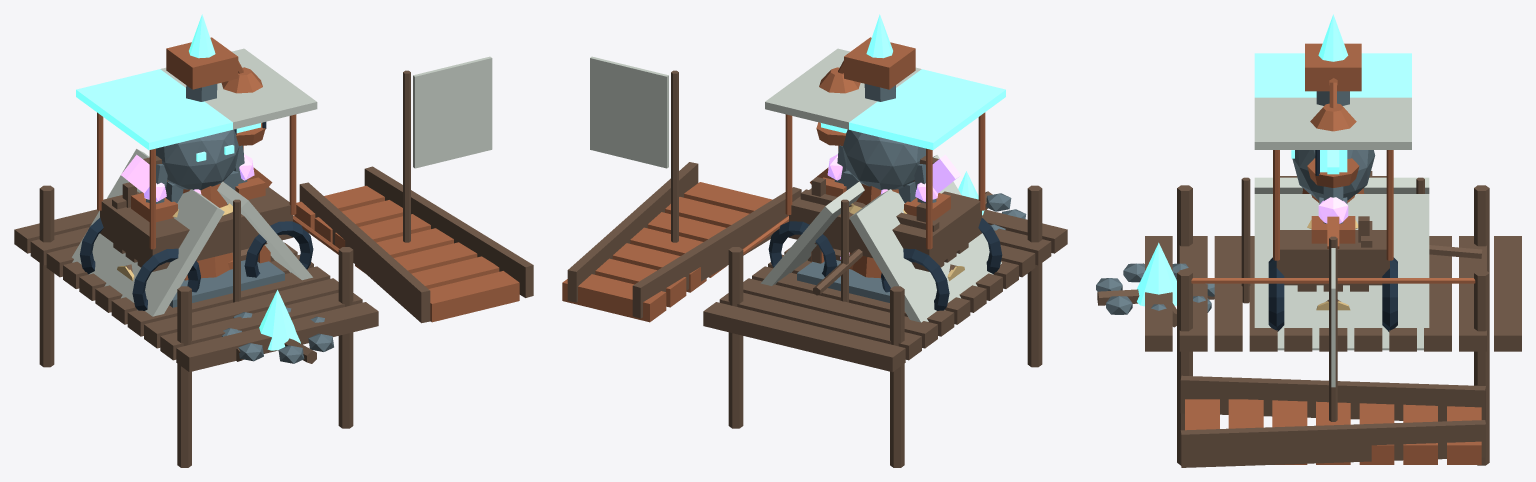
File: detaljer.glb
3 views of the same model, side by side, from view 1: azimuth 30°, elevation 25°; view 2: azimuth 150°, elevation 25°; view 3: azimuth 270°, elevation 25° (orthographic). The views are drawn at different scales.
Parts seen in each view (by area): view 1: havn_træ, havn_kobber, lejr_hvid, havn_hvid, markedsvogn_turkis, statue_sten, markedsvogn_træ, markedsvogn_hvid, markedsvogn_kobber, markedsvogn_mørk, grottepille_kobber, lejr_sten (+7 smaller); view 2: havn_træ, havn_kobber, lejr_hvid, havn_hvid, markedsvogn_turkis, statue_sten, markedsvogn_træ, markedsvogn_hvid, markedsvogn_kobber, markedsvogn_mørk, grottepille_kobber, bænk_træ (+6 smaller); view 3: havn_træ, lejr_hvid, havn_kobber, markedsvogn_hvid, markedsvogn_træ, markedsvogn_turkis, markedsvogn_kobber, grottepille_kobber, lanterne_kobber, statue_sten, markedsvogn_mørk, lejr_træ (+6 smaller).
Boxes of the visible parts, x1,y1,x2,y2 form: havn_træ: (14, 70, 533, 467); havn_kobber: (293, 185, 519, 322); lejr_hvid: (72, 149, 312, 316); havn_hvid: (413, 56, 492, 168); markedsvogn_turkis: (76, 69, 232, 149); statue_sten: (146, 129, 284, 307); markedsvogn_træ: (100, 187, 292, 271); markedsvogn_hvid: (160, 48, 317, 129); markedsvogn_kobber: (97, 112, 296, 249); markedsvogn_mørk: (80, 217, 313, 310); grottepille_kobber: (166, 37, 238, 280); lejr_sten: (222, 307, 333, 363); havn_træ: (567, 70, 1067, 467); havn_kobber: (562, 182, 788, 322); lejr_hvid: (761, 155, 1001, 322); havn_hvid: (590, 56, 668, 168); markedsvogn_turkis: (849, 69, 1005, 149); statue_sten: (797, 129, 936, 302); markedsvogn_træ: (789, 188, 981, 295); markedsvogn_hvid: (765, 48, 921, 129); markedsvogn_kobber: (785, 112, 985, 249); markedsvogn_mørk: (768, 218, 1002, 310); grottepille_kobber: (844, 37, 915, 269); bænk_træ: (800, 177, 968, 267); havn_træ: (1145, 185, 1521, 467); lejr_hvid: (1254, 177, 1429, 350); havn_kobber: (1185, 278, 1481, 464); markedsvogn_hvid: (1254, 97, 1411, 149); markedsvogn_træ: (1276, 176, 1482, 285); markedsvogn_turkis: (1254, 53, 1411, 97); markedsvogn_kobber: (1273, 150, 1393, 260); grottepille_kobber: (1305, 43, 1361, 91); lanterne_kobber: (1307, 77, 1359, 187); statue_sten: (1292, 150, 1375, 223); markedsvogn_mørk: (1268, 257, 1397, 331); lejr_træ: (1097, 177, 1424, 327).
Bounding box in the file's own units: 5.55 × 5.18 × 4.88.
